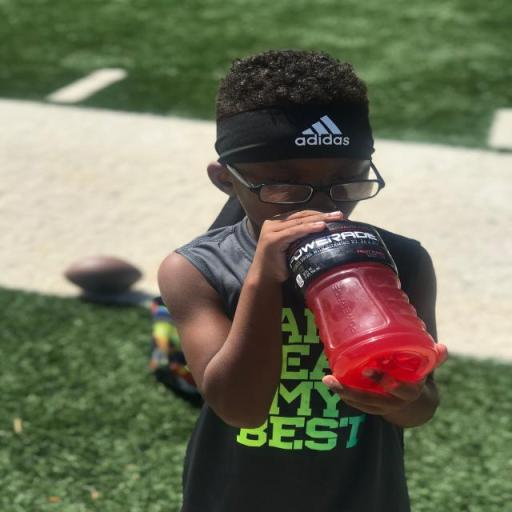Adidas: (292, 114, 351, 148)
